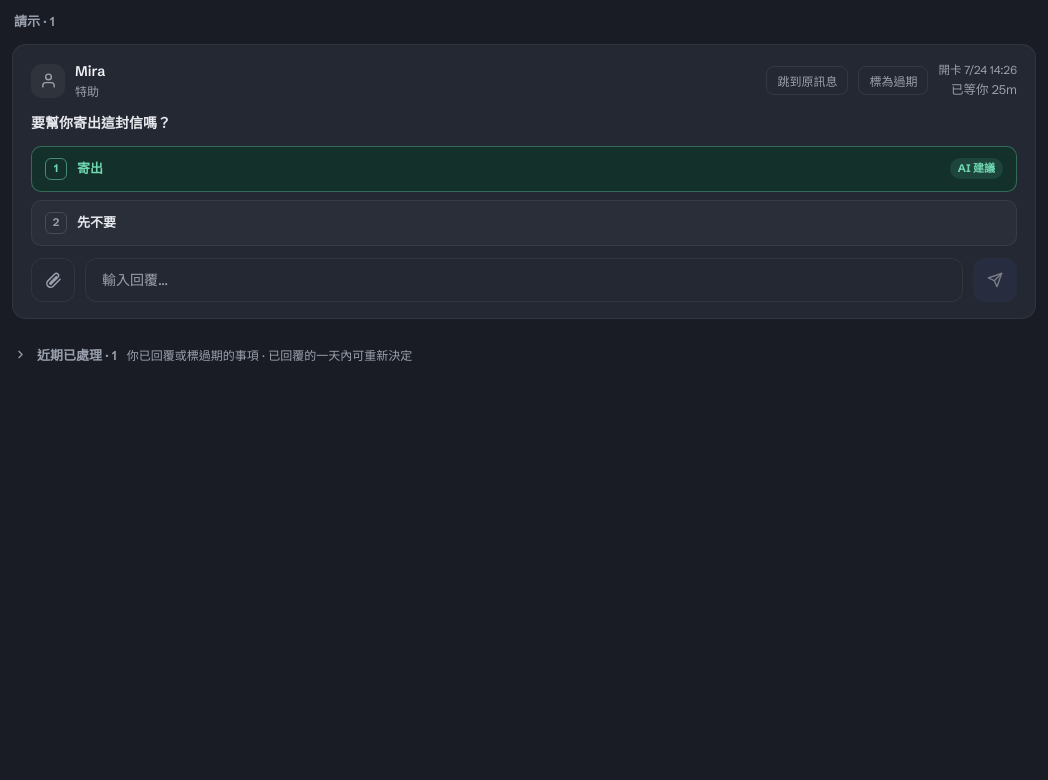
Test case: RepliesPage › does NOT fetch the handled lists while collapsed; expanding pulls them (owner answered 區收合不 fetch)
Note: Expanding is what pulls the handled lists (answered + expired).
Click the button with test id "answered-toggle": (77, 354) [12,344,1036,376]
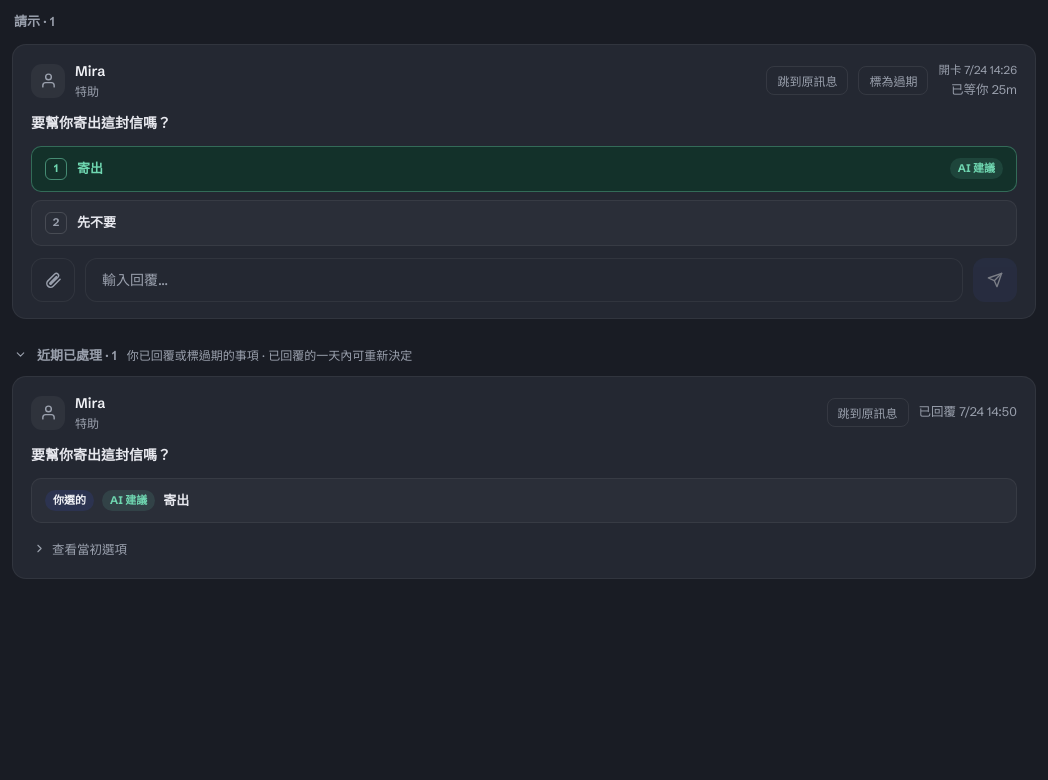
Check: the element with test id "answered-card" is shown, box [12,376,1036,579]
